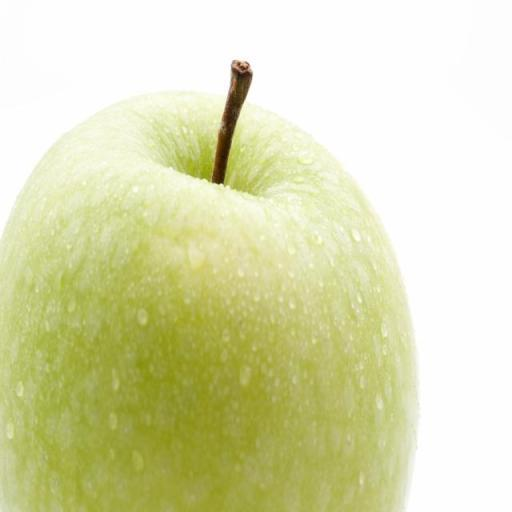fruit: (0, 92, 415, 511)
